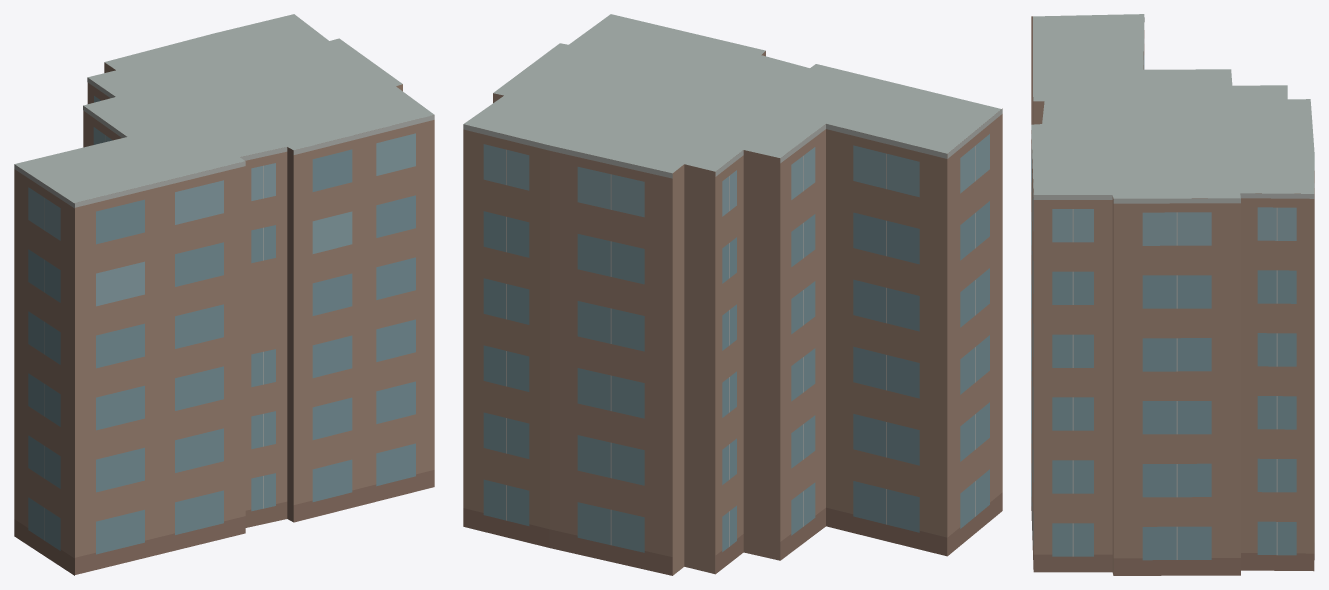
The model's file is survey-upis-32777628.glb.
The picture shows the model from 3 angles, left to right: view 1: azimuth 30°, elevation 25°; view 2: azimuth 150°, elevation 25°; view 3: azimuth 270°, elevation 25°; orthographic projection. The views are drawn at different scales.
Visible parts, largest first — view 1: survey-upis-32777628.tmp; view 2: survey-upis-32777628.tmp; view 3: survey-upis-32777628.tmp.
Boxes of the visible parts, x1,y1,x2,y2 form: survey-upis-32777628.tmp: (14,14,434,575); survey-upis-32777628.tmp: (463,14,1002,575); survey-upis-32777628.tmp: (1031,14,1314,575).
Size of the model in its own units: 19.55 by 18.6 by 12.68.
